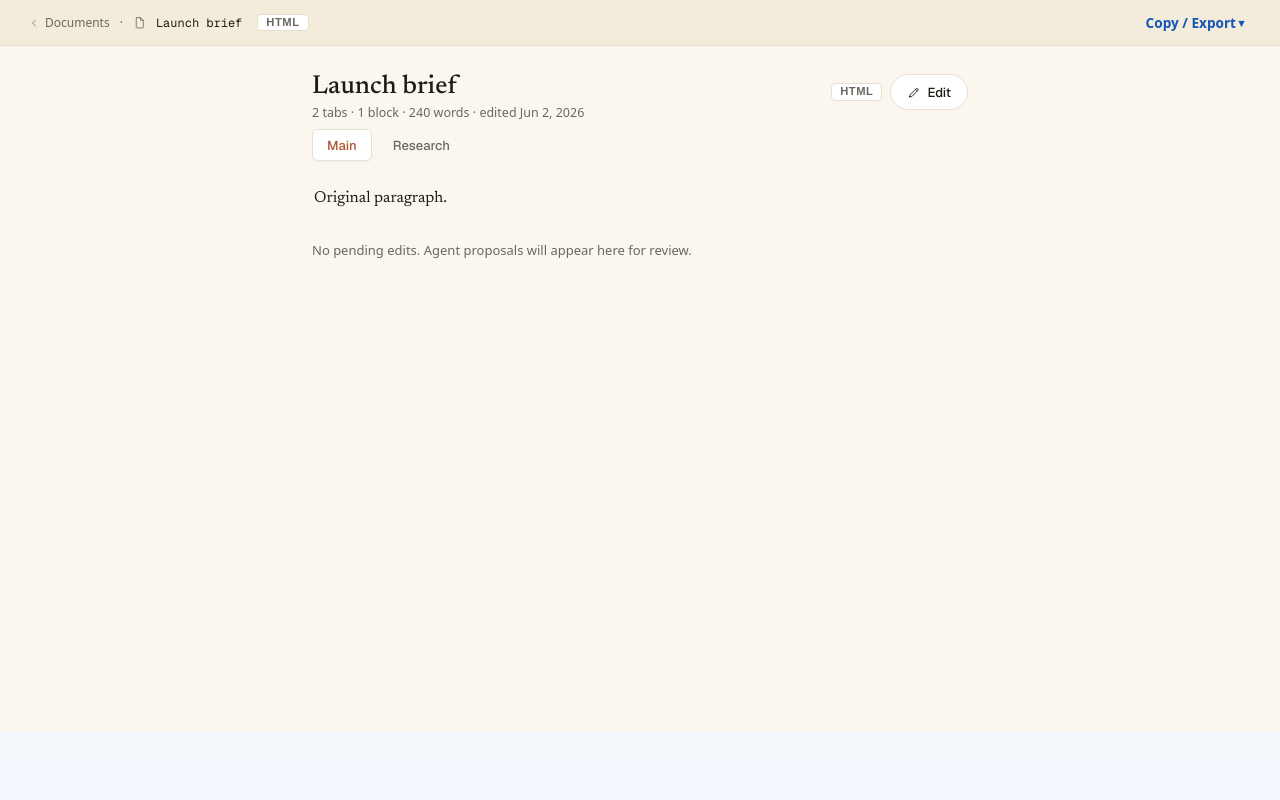
Scenario: DocumentDetailPage › renders native tabs and blocks, and switches tabs
This screenshot has width=1280, height=800.
Expected: the text "Original paragraph." is shown, [314,190,447,206]
Expected: the text "Research notes" is not shown
Click the tab "Research" at (421, 145), box [378,129,465,161]
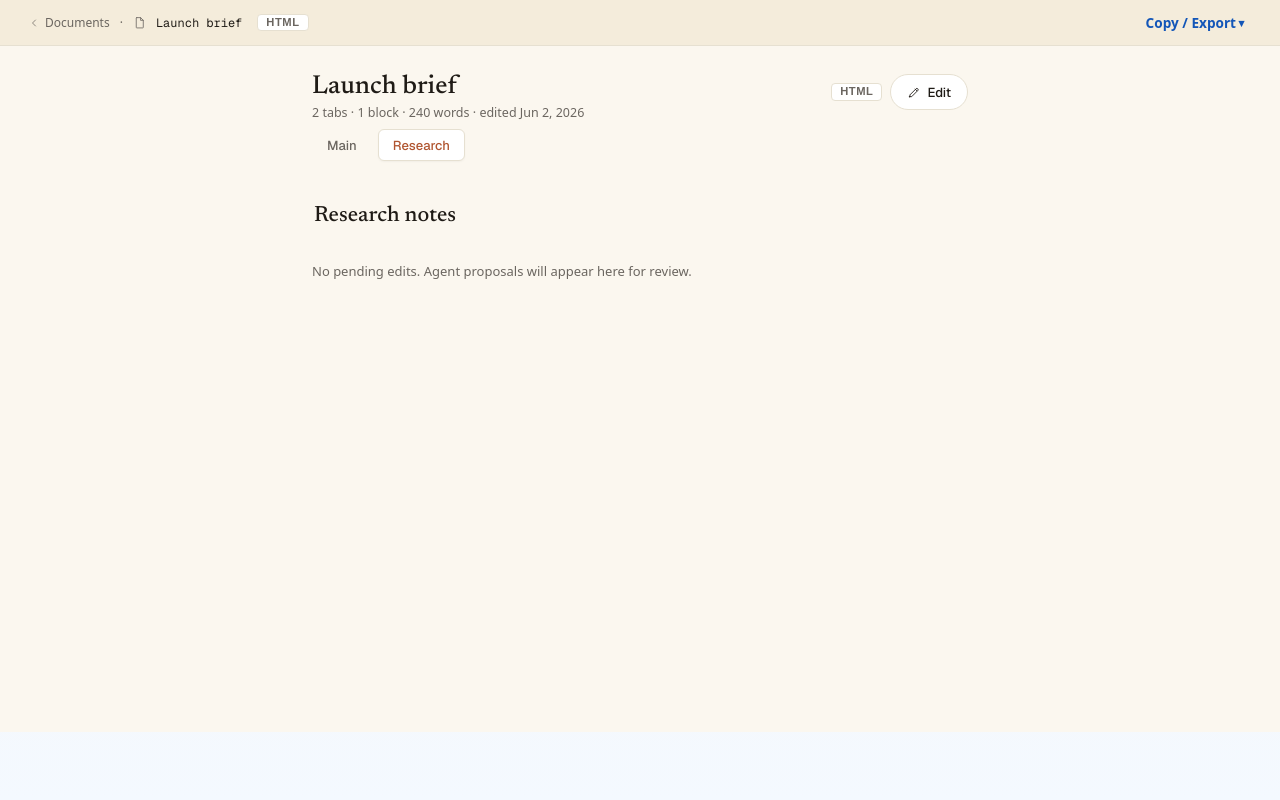
Result: the heading "Research notes" is shown at [314,205,456,227]
Result: the text "Original paragraph." is gone
